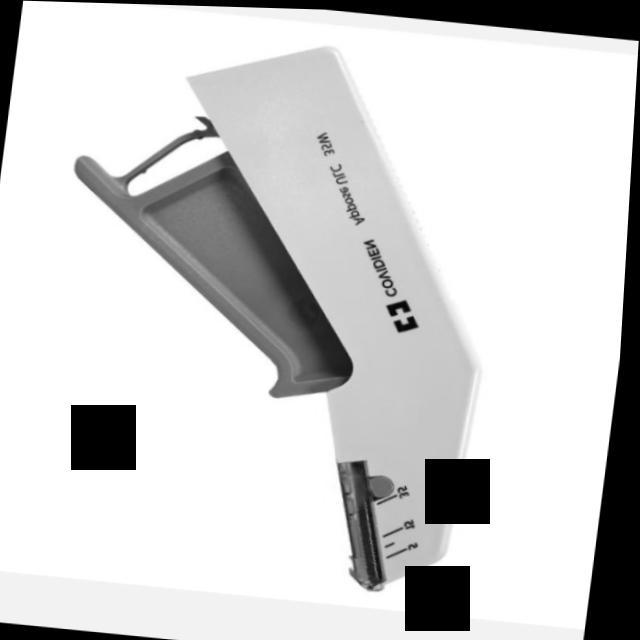Skin Stapler: (19, 22, 522, 602)
